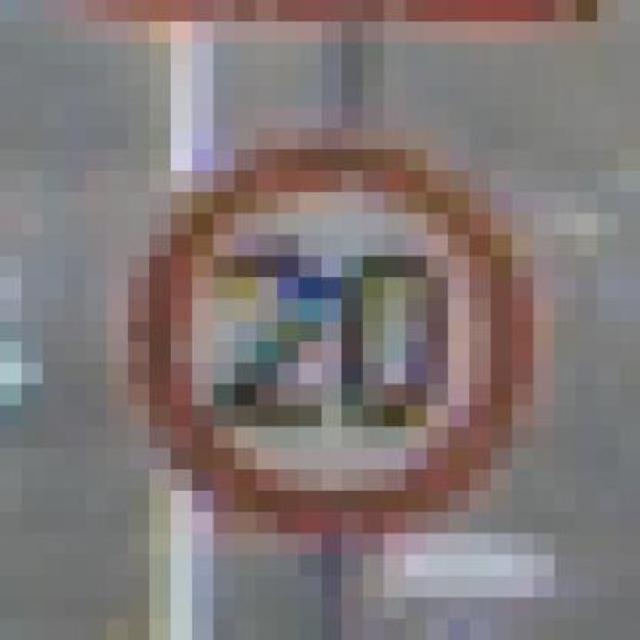Speed Limit 20 KMPh: (128, 63, 597, 554)
